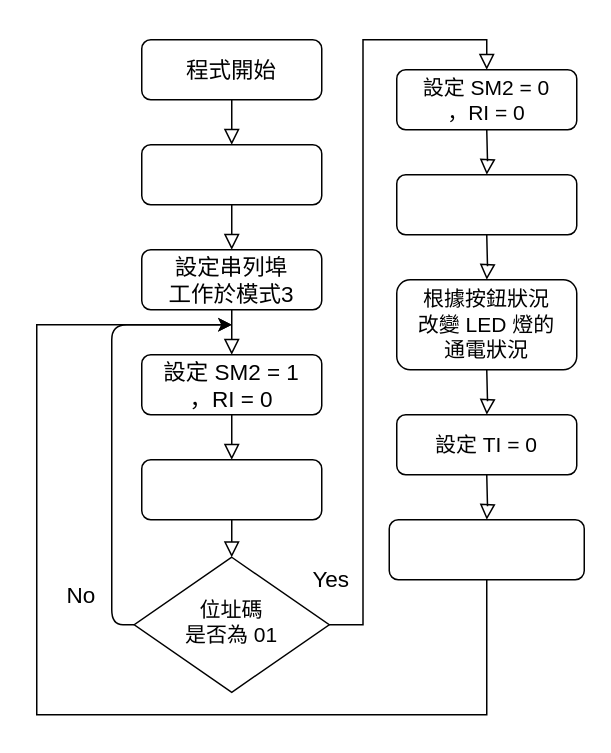
This 611x753 diagram has some shape labels left out. The centre of each missing label's shape, as x and y in pixels:
"接收主機端 送來的按鈕狀況" belongs at [486,204].
"接收主機端 送出的位址碼" belongs at [231,489].
"發射 LED 通電狀況 給主機端" belongs at [486,549].
"規劃鮑率" belongs at [231,174].
